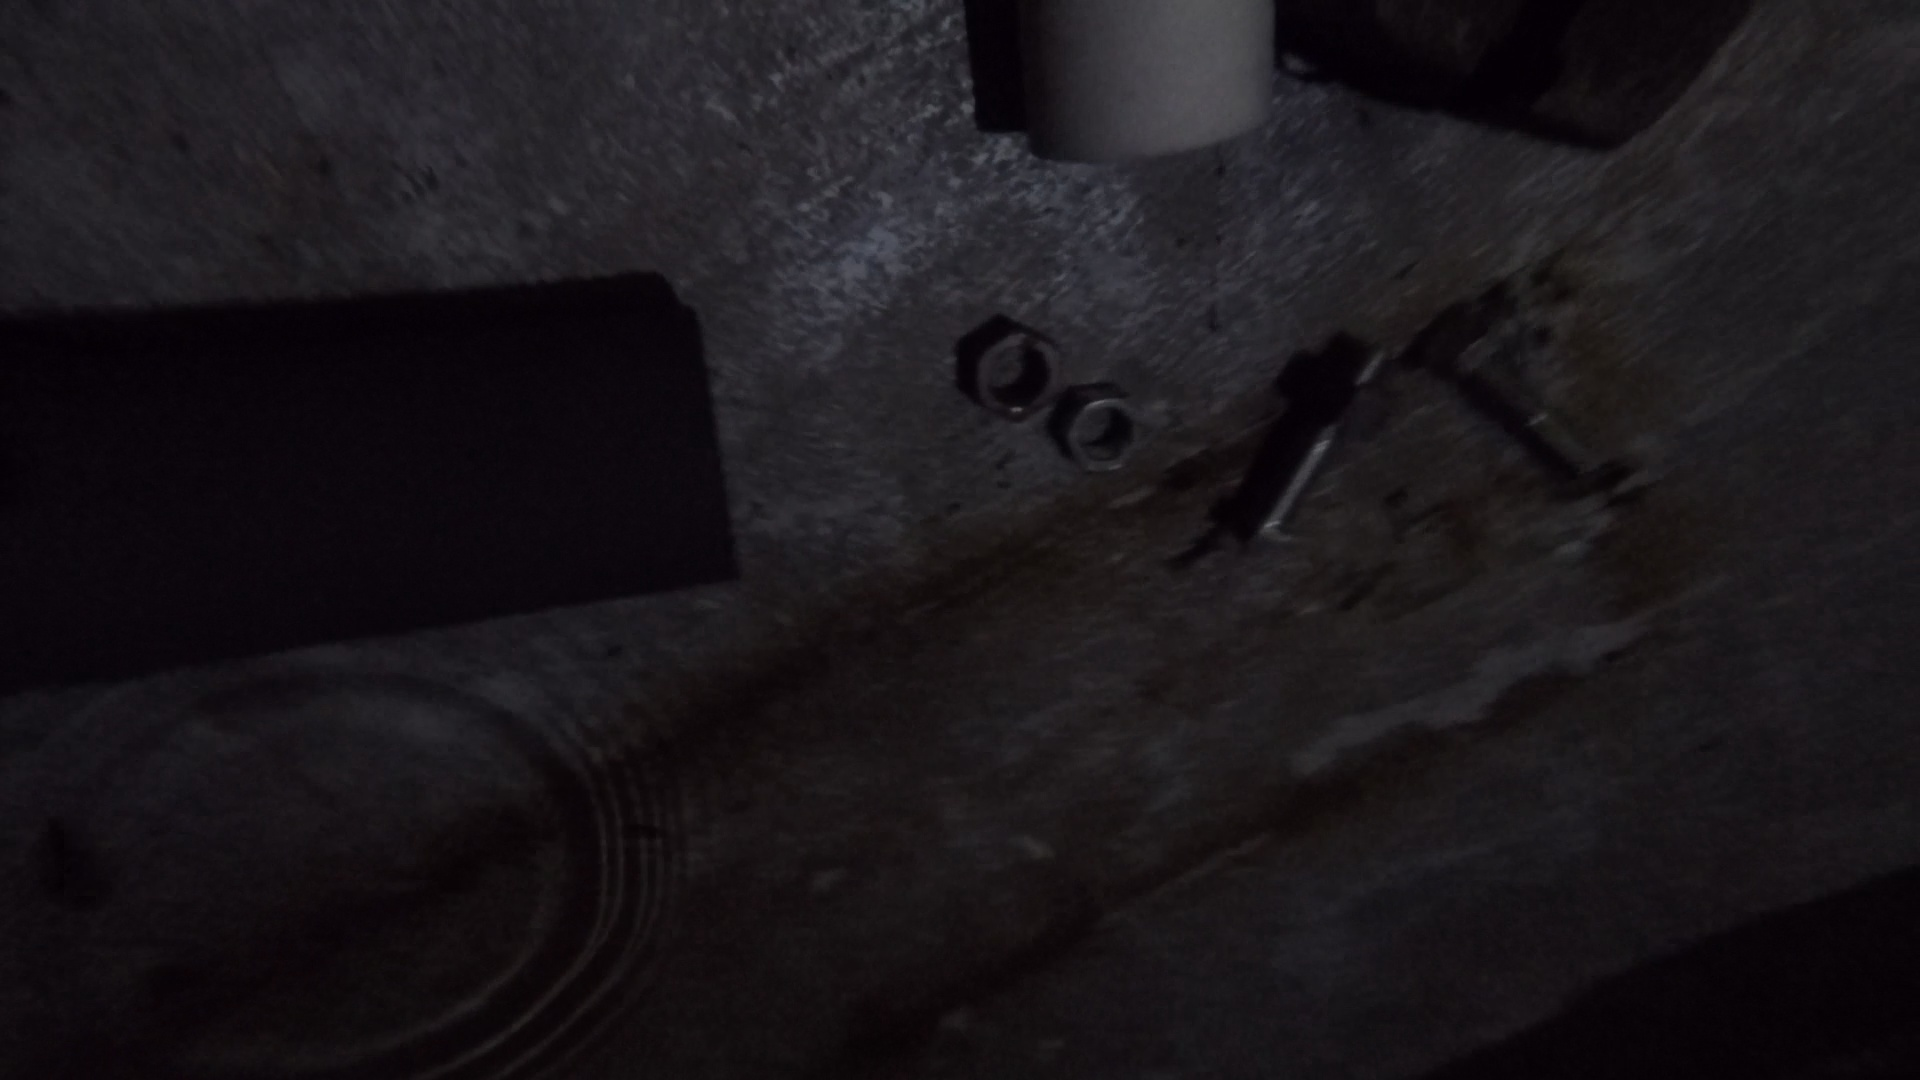bolt: (1228, 343, 1389, 558), (1427, 305, 1598, 477)
led_block: (1309, 1, 1760, 152)
nut: (957, 313, 1062, 423), (1274, 351, 1393, 442), (1051, 385, 1145, 477)
pipe: (1, 293, 742, 688), (1018, 1, 1279, 165)
